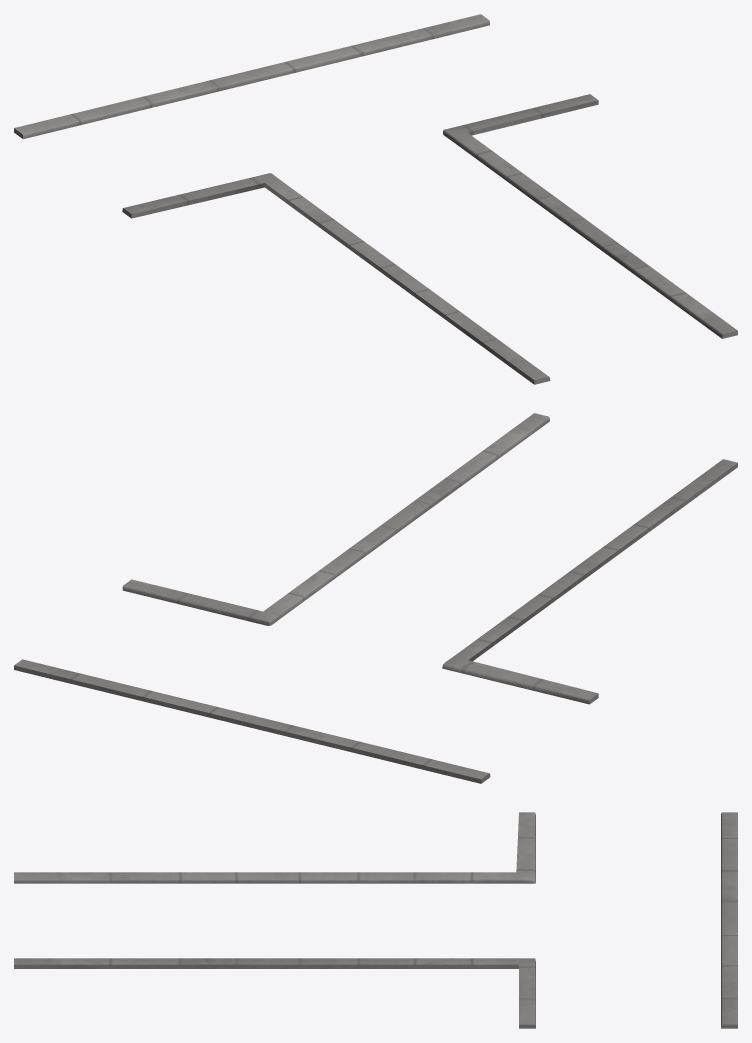
File: T_SideWalk.fbx
The picture shows the model from 3 angles, top to bottom: view 1: azimuth 30°, elevation 25°; view 2: azimuth 150°, elevation 25°; view 3: azimuth 270°, elevation 25°; orthographic projection. The views are drawn at different scales.
Parts seen in each view (by area): view 1: T_SideWalk; view 2: T_SideWalk; view 3: T_SideWalk.
Boxes of the visible parts, x1=… form: T_SideWalk: x1=14, y1=14, x2=737, y2=384; T_SideWalk: x1=14, y1=413, x2=737, y2=783; T_SideWalk: x1=14, y1=812, x2=737, y2=1028.
Size of the model in its own units: 1299 by 1872 by 12.04.
